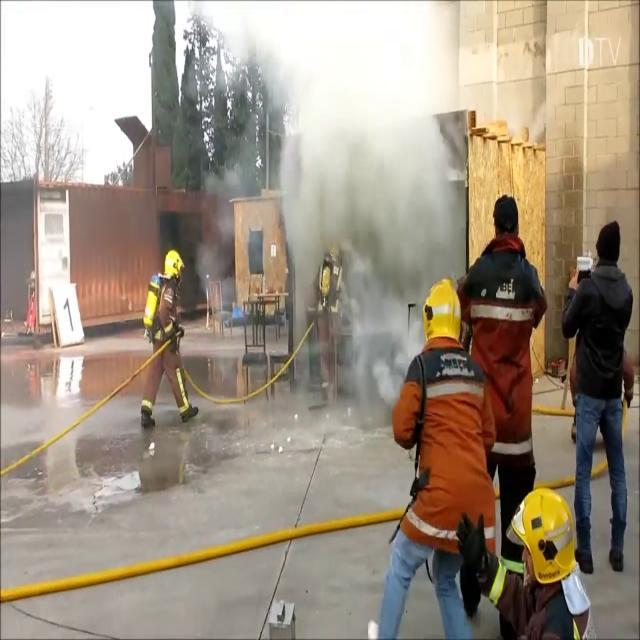Smoke: (192, 1, 466, 306)
